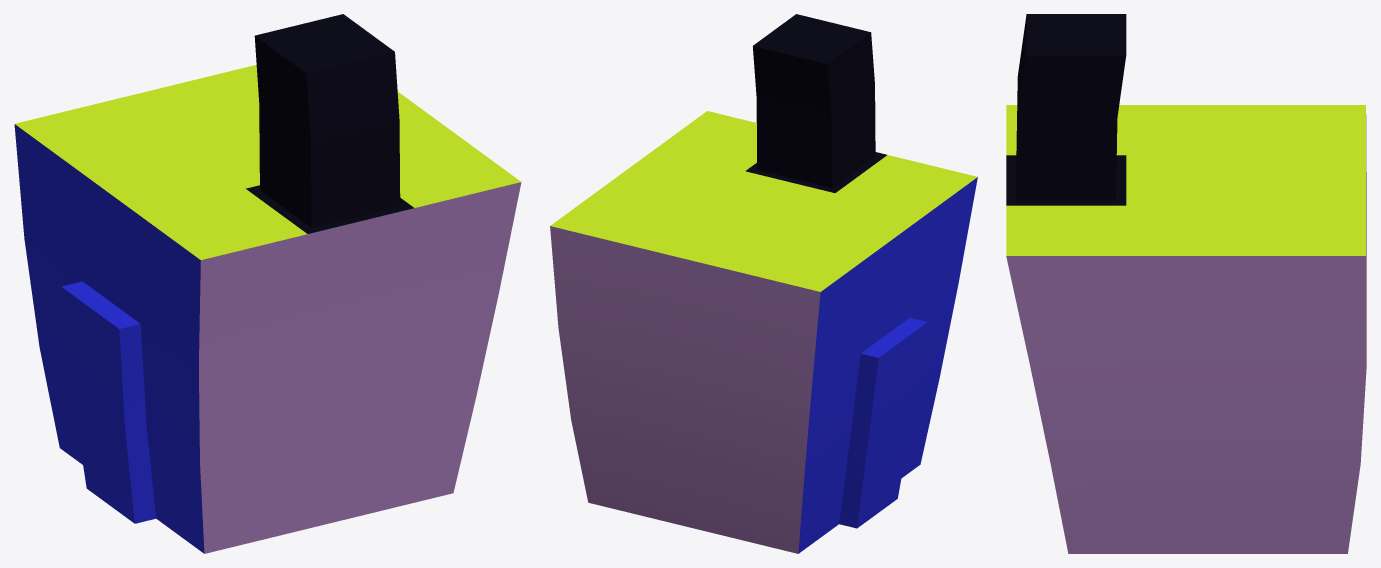
Rendered from building.fbx.
3 views of the same model, side by side, from view 1: azimuth 30°, elevation 25°; view 2: azimuth 150°, elevation 25°; view 3: azimuth 270°, elevation 25° (orthographic). The views are drawn at different scales.
Parts seen in each view (by area): view 1: Box001; view 2: Box001; view 3: Box001.
Part boxes in pixels (x1,y1,x2,y2): Box001: [14, 14, 521, 553]; Box001: [550, 14, 977, 553]; Box001: [1006, 14, 1366, 553].
Size of the model in its own units: 36.45 by 50.07 by 35.54.
